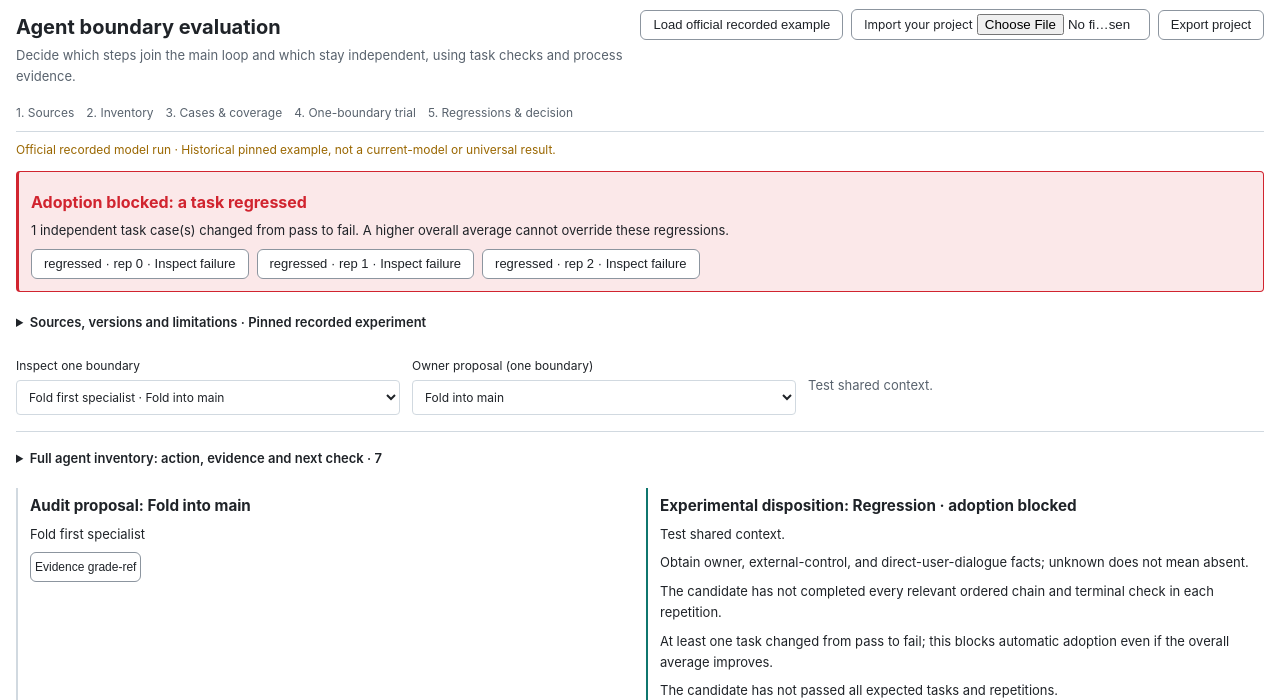
Scenario: drills from a failed case to one repetition, checks, exact action arguments and an ordered trace with unknown clocks
The width and height of the screenshot is (1280, 700).
Step 1. Click the button "regressed · rep 2 · Inspect failure" → (591, 264), box [482, 249, 700, 279]
(page scrolled)
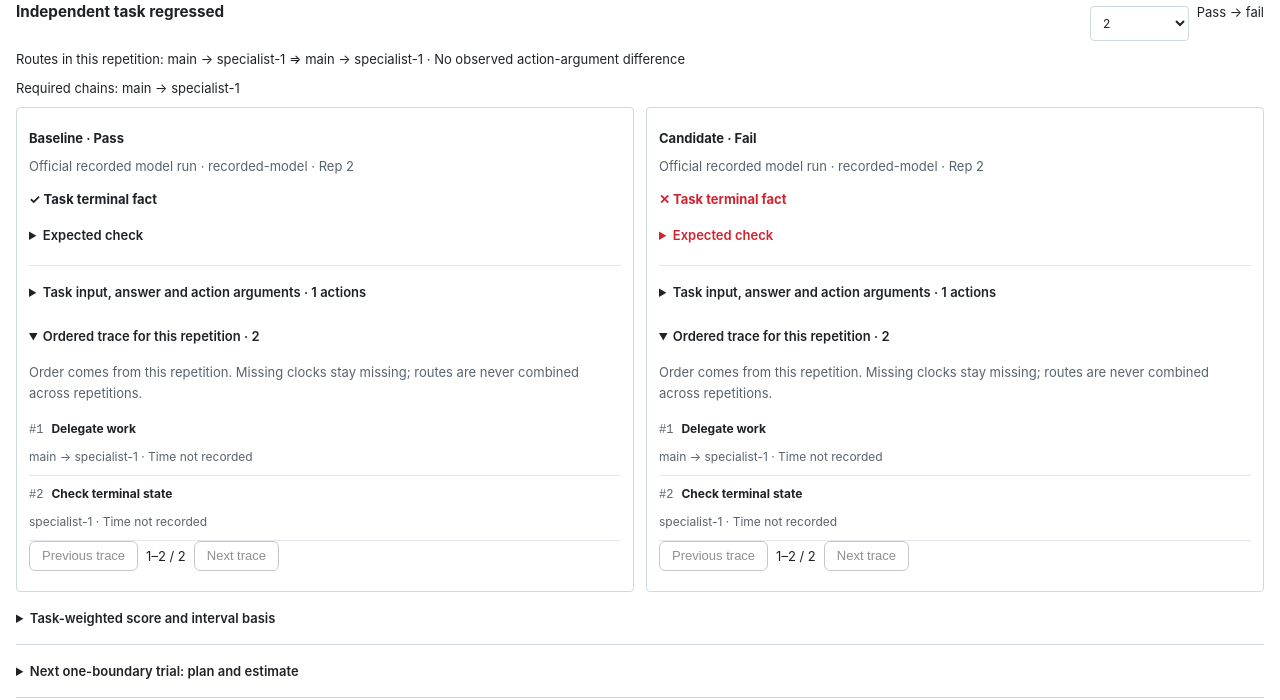
Expected: the list item "✕ Task terminal fact Expected check" is shown, [659, 185, 1251, 266]
Expected: the dropdown labelled "Inspect repetition" shows "2", [1090, 6, 1189, 41]
Step 2. Click the 2nd button with class "af-event" → (724, 429), box [659, 411, 1251, 476]
(page scrolled)
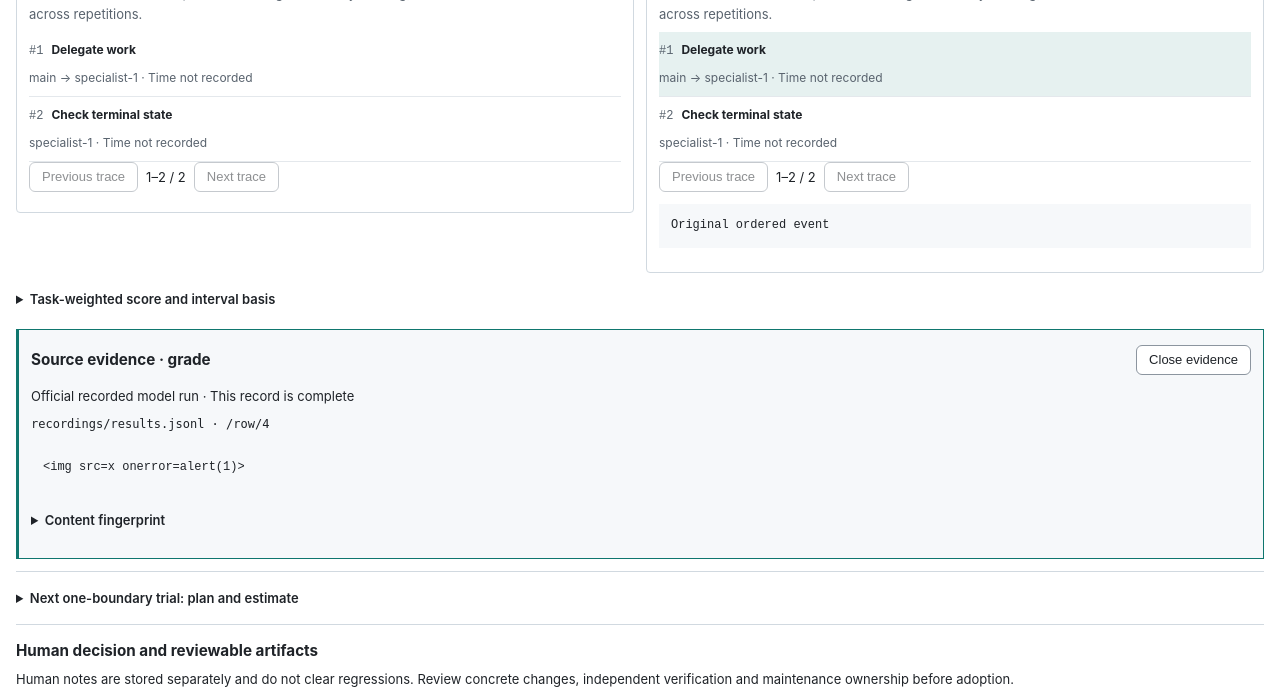
Expected: the element named "Selected source evidence" shows "/row/4", [204, 417, 269, 431]
